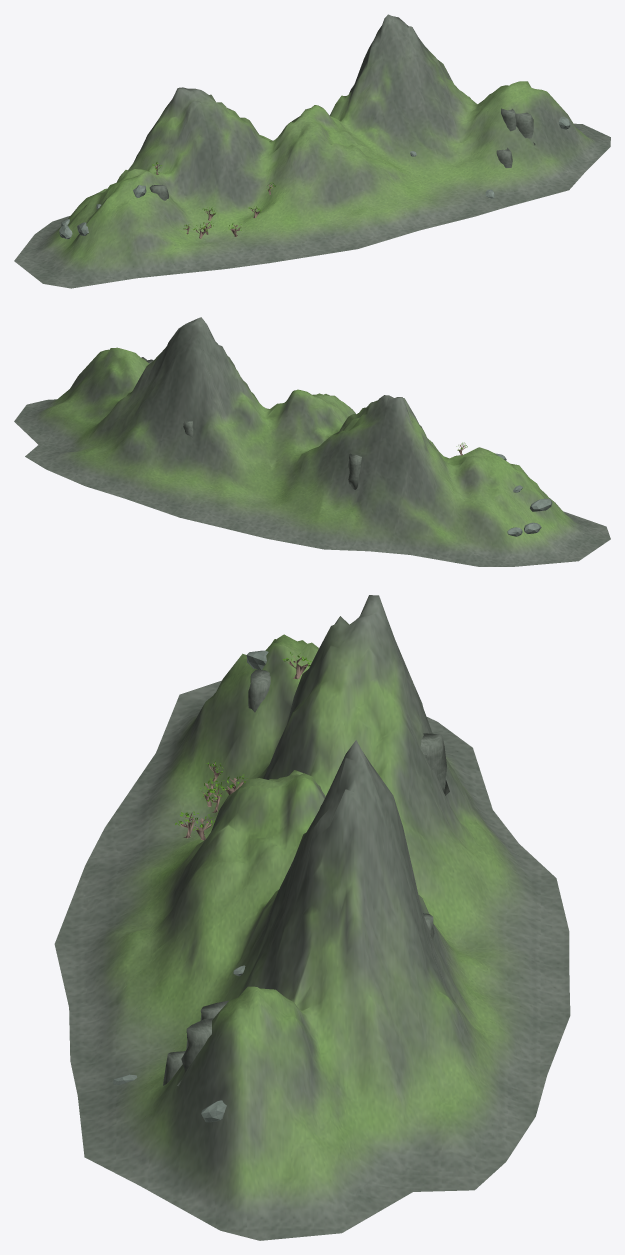
File: vien-phong.glb
3 views of the same model, one above another, from view 1: azimuth 30°, elevation 25°; view 2: azimuth 150°, elevation 25°; view 3: azimuth 270°, elevation 25° (orthographic). The views are drawn at different scales.
Parts seen in each view (by area): view 1: Viễn Phong · weathered mountain, Viễn Phong fractured bedrock.002; view 2: Viễn Phong · weathered mountain, Viễn Phong fractured bedrock.001; view 3: Viễn Phong · weathered mountain, Viễn Phong fractured bedrock.001, Viễn Phong fractured bedrock.002.
Part boxes in pixels (x1,y1,x2,y2): Viễn Phong · weathered mountain: [14, 14, 610, 288]; Viễn Phong fractured bedrock.002: [516, 112, 535, 145]; Viễn Phong · weathered mountain: [14, 317, 610, 566]; Viễn Phong fractured bedrock.001: [348, 453, 361, 489]; Viễn Phong · weathered mountain: [54, 595, 570, 1240]; Viễn Phong fractured bedrock.001: [420, 733, 449, 795]; Viễn Phong fractured bedrock.002: [177, 1018, 213, 1085].
Size of the model in its own units: 368 by 93.77 by 143.
Materials: 4 (4 with a texture image).
